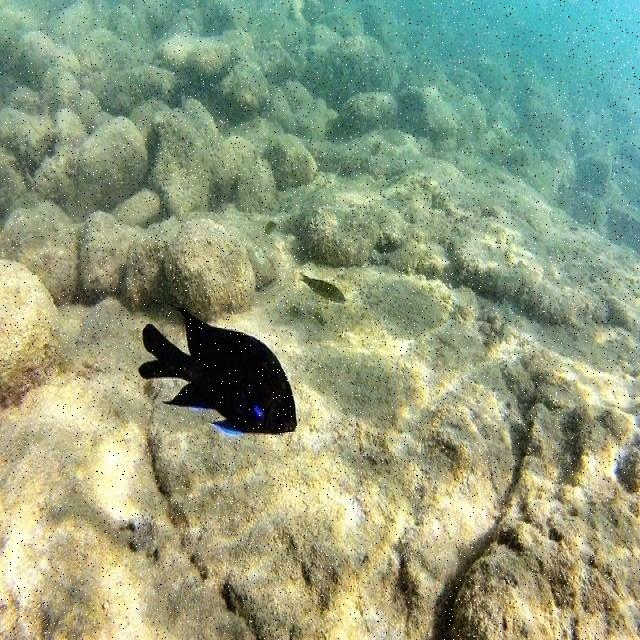fish: (140, 308, 297, 437), (300, 274, 346, 303)
